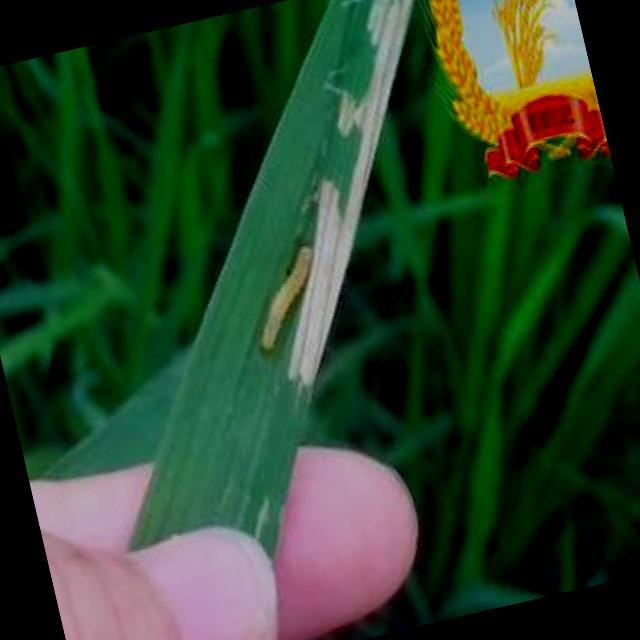leaf folder: (260, 246, 311, 351)
